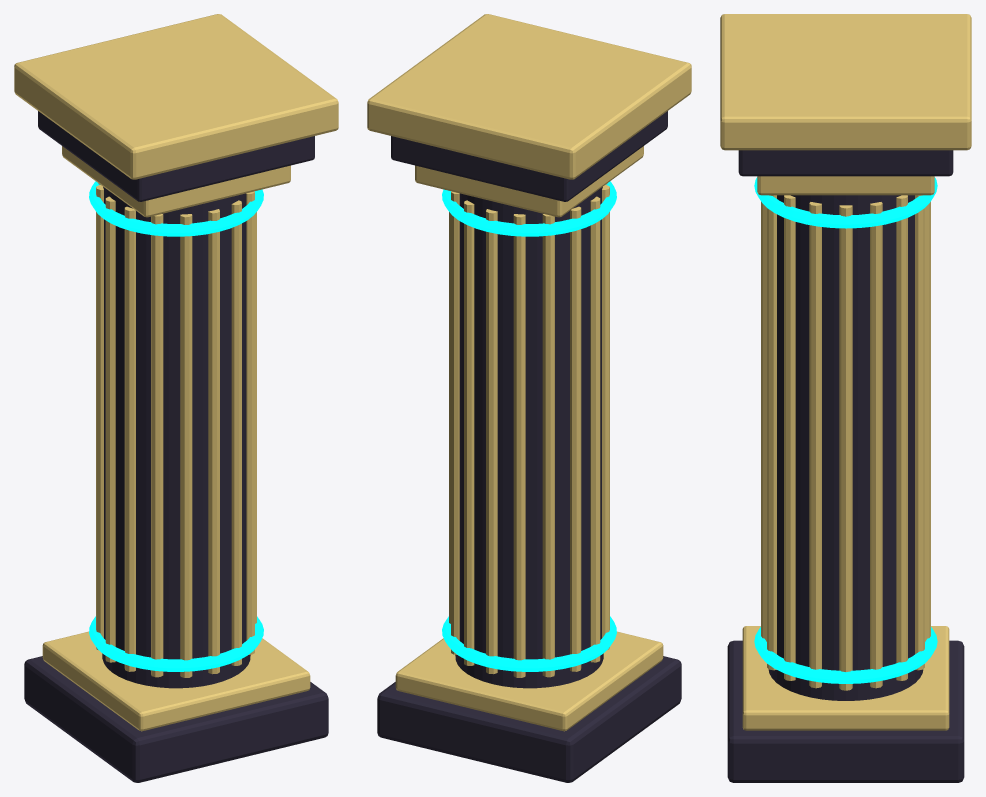
The model's file is FlutedPillar.fbx.
3 views of the same model, side by side, from view 1: azimuth 30°, elevation 25°; view 2: azimuth 150°, elevation 25°; view 3: azimuth 270°, elevation 25° (orthographic). The views are drawn at different scales.
Visible parts, largest first — view 1: FlutedPillar; view 2: FlutedPillar; view 3: FlutedPillar.
Boxes of the visible parts, bbox=[...] form: FlutedPillar: bbox=[14, 14, 338, 782]; FlutedPillar: bbox=[367, 14, 691, 782]; FlutedPillar: bbox=[720, 14, 971, 782].
Size of the model in its own units: 3.4 by 10 by 3.4.
